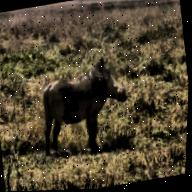boar: (22, 43, 145, 167)
